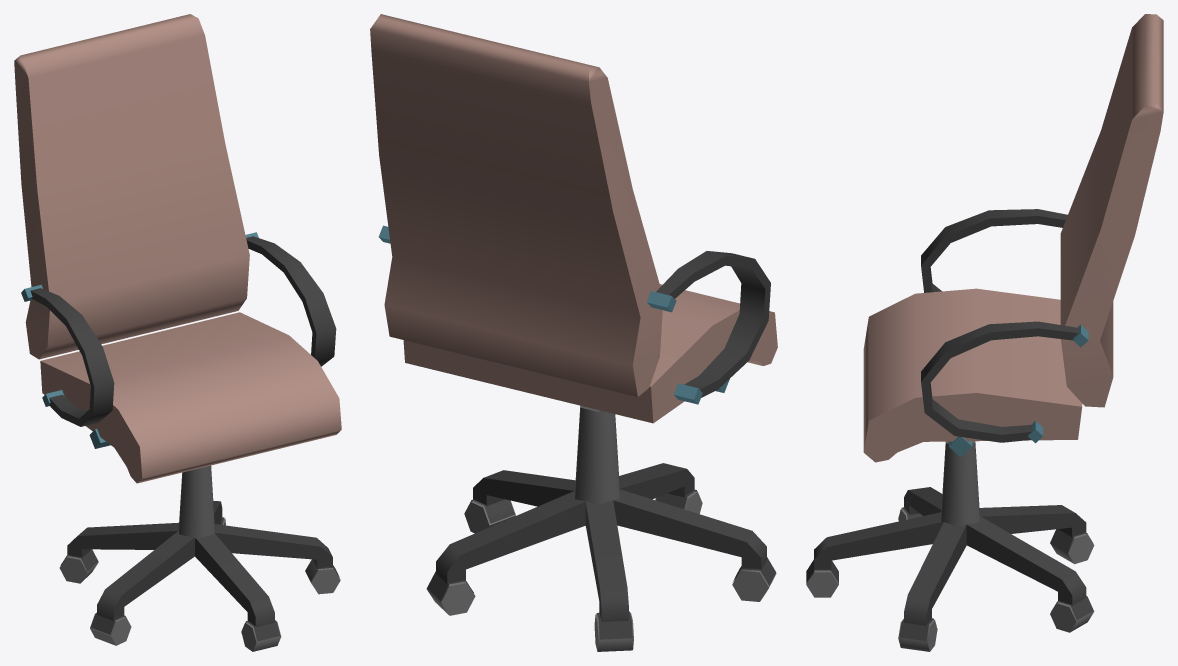
The model's file is office_chair_011.glb.
The picture shows the model from 3 angles, left to right: view 1: azimuth 30°, elevation 25°; view 2: azimuth 150°, elevation 25°; view 3: azimuth 270°, elevation 25°; orthographic projection. The views are drawn at different scales.
Parts seen in each view (by area): view 1: office_chair_011; view 2: office_chair_011; view 3: office_chair_011.
Boxes of the visible parts, x1,y1,x2,y2 form: office_chair_011: (14,14,341,651); office_chair_011: (370,14,777,651); office_chair_011: (806,14,1163,651).
Bounding box in the file's own units: 0.6104 × 1.18 × 0.7201.
1 material, 1 textured.
